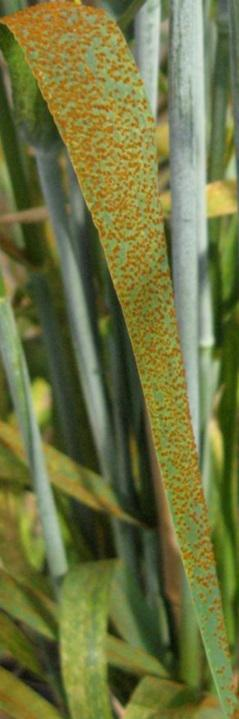Wheat: (129, 334, 227, 640), (58, 137, 176, 289), (121, 293, 176, 331)
